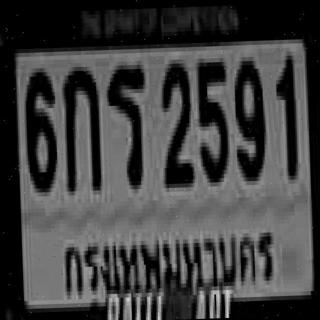A01: (60, 60, 100, 189)
A35: (104, 60, 146, 186)
N01: (273, 49, 296, 174)
N02: (159, 57, 191, 182)
N05: (195, 56, 227, 177)
N06: (22, 64, 56, 189)
N09: (232, 54, 265, 176)
P04: (57, 218, 279, 300)
